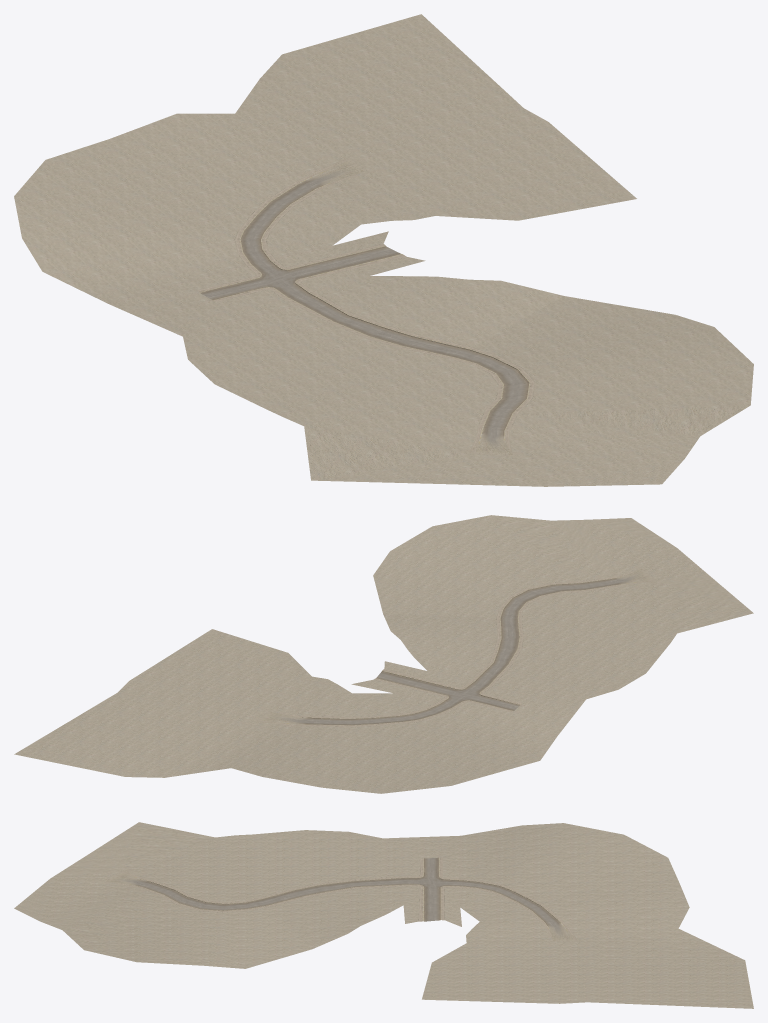
File: dimian01b.fbx
The picture shows the model from 3 angles, top to bottom: view 1: azimuth 30°, elevation 25°; view 2: azimuth 150°, elevation 25°; view 3: azimuth 270°, elevation 25°; orthographic projection. The views are drawn at different scales.
Visible parts, largest first — view 1: dimian01; view 2: dimian01; view 3: dimian01.
Part boxes in pixels (x1,y1,x2,y2): dimian01: [14, 14, 753, 486]; dimian01: [14, 515, 753, 793]; dimian01: [14, 822, 753, 1008].
Size of the model in its own units: 27392 by 650 by 45855.
